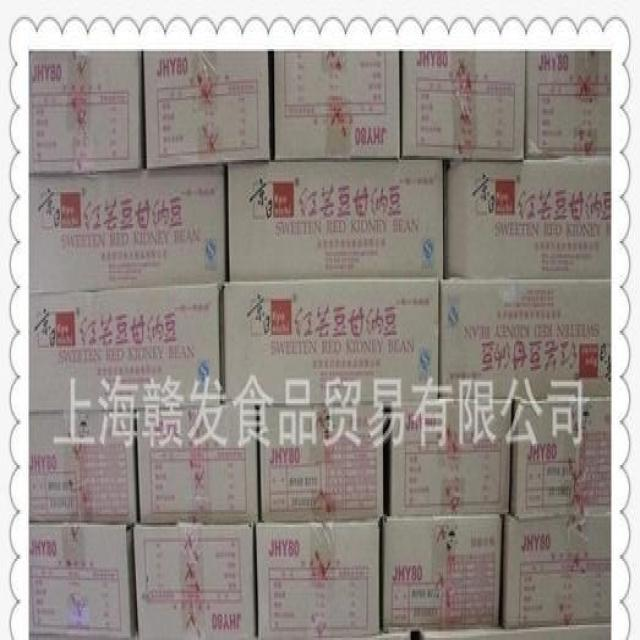box: (225, 158, 444, 279), (223, 280, 439, 401), (28, 163, 227, 294), (28, 283, 224, 412), (442, 153, 612, 280), (440, 277, 609, 399), (257, 397, 386, 522), (132, 403, 259, 526), (143, 53, 269, 169), (385, 399, 511, 515), (256, 521, 382, 634), (30, 52, 146, 174), (133, 522, 256, 635), (273, 53, 401, 161), (381, 516, 502, 630), (400, 53, 527, 157), (27, 406, 138, 523), (502, 510, 611, 628), (30, 522, 139, 636), (510, 400, 610, 521), (525, 53, 611, 159), (382, 625, 610, 638)
